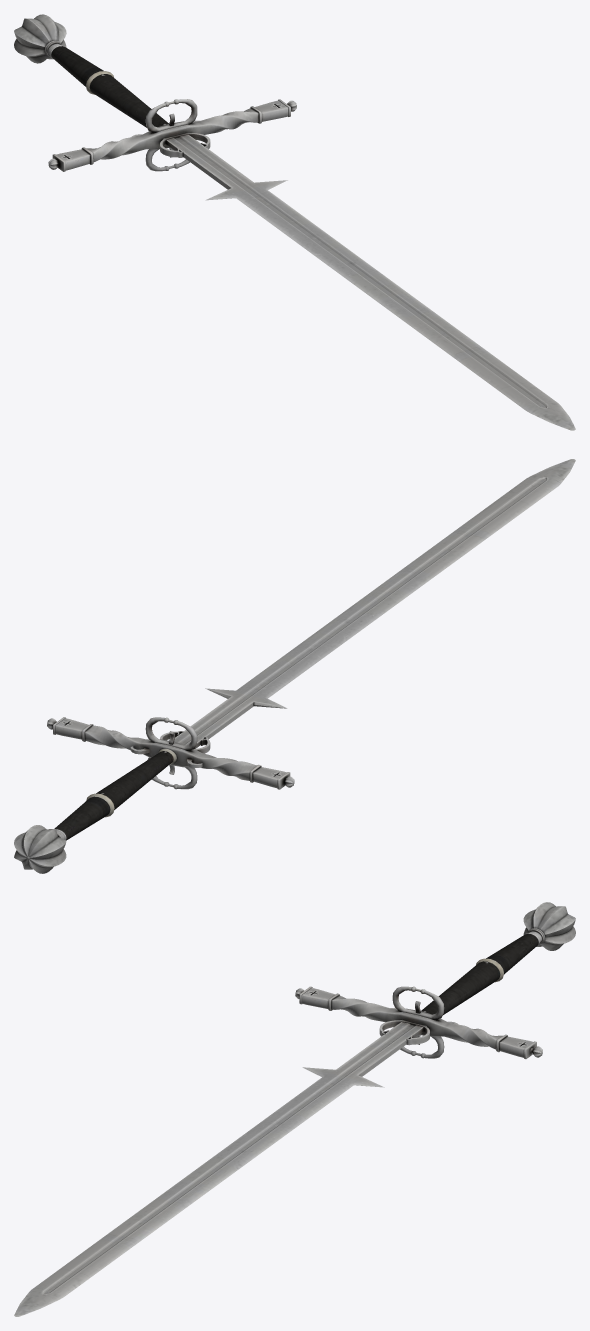
The model's file is wyrmbane.glb.
The picture shows the model from 3 angles, top to bottom: view 1: azimuth 30°, elevation 25°; view 2: azimuth 150°, elevation 25°; view 3: azimuth 330°, elevation 25°; orthographic projection.
Visible parts, largest first — view 1: Object_2; view 2: Object_2; view 3: Object_2.
Boxes of the visible parts, bbox=[...] form: Object_2: bbox=[14, 14, 575, 430]; Object_2: bbox=[14, 459, 575, 873]; Object_2: bbox=[14, 902, 575, 1316].
Size of the model in its own units: 0.3696 by 0.099 by 1.42.
1 material, 1 textured.
